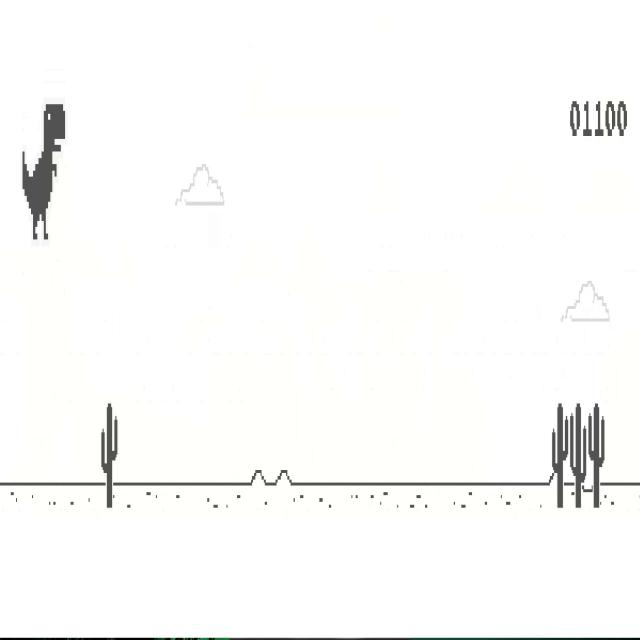cacto: (101, 401, 118, 509), (570, 402, 587, 510), (588, 402, 605, 510), (552, 401, 568, 509)
dino: (22, 100, 66, 242)
